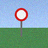sign: (15, 8, 28, 36)
